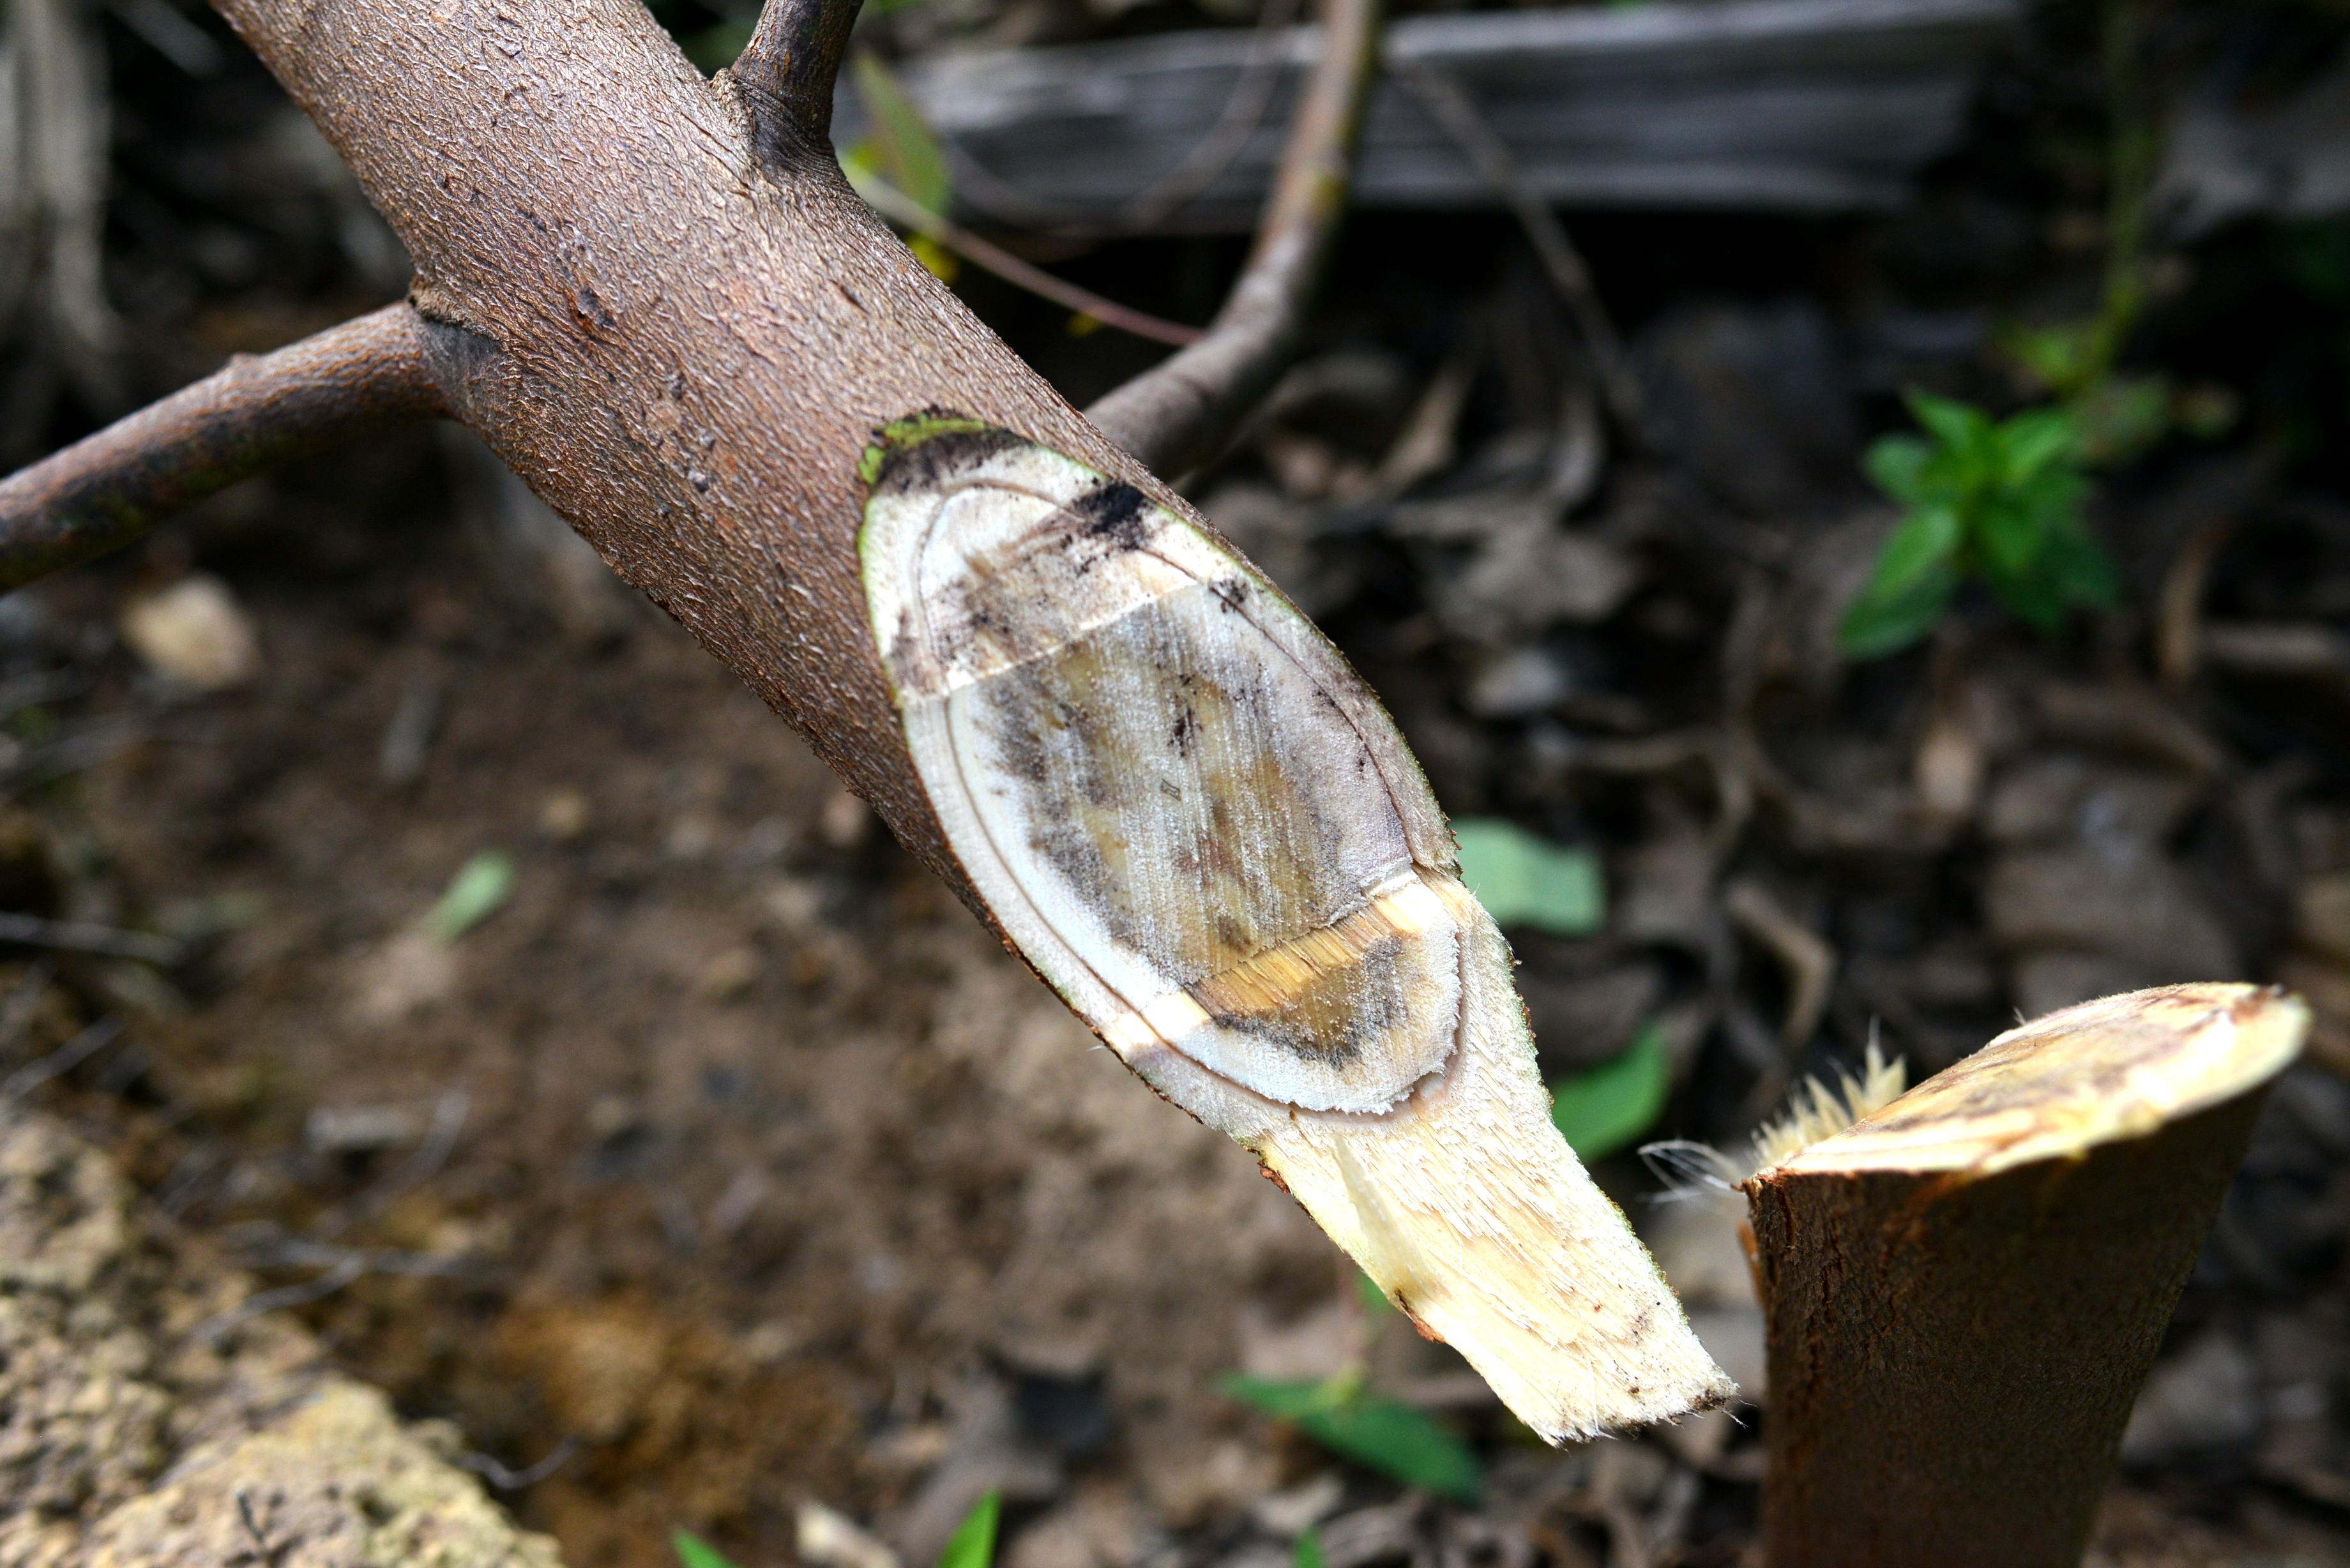Ralstonia: (1158, 619, 1402, 1069), (1788, 968, 2292, 1160), (950, 549, 1134, 955)
